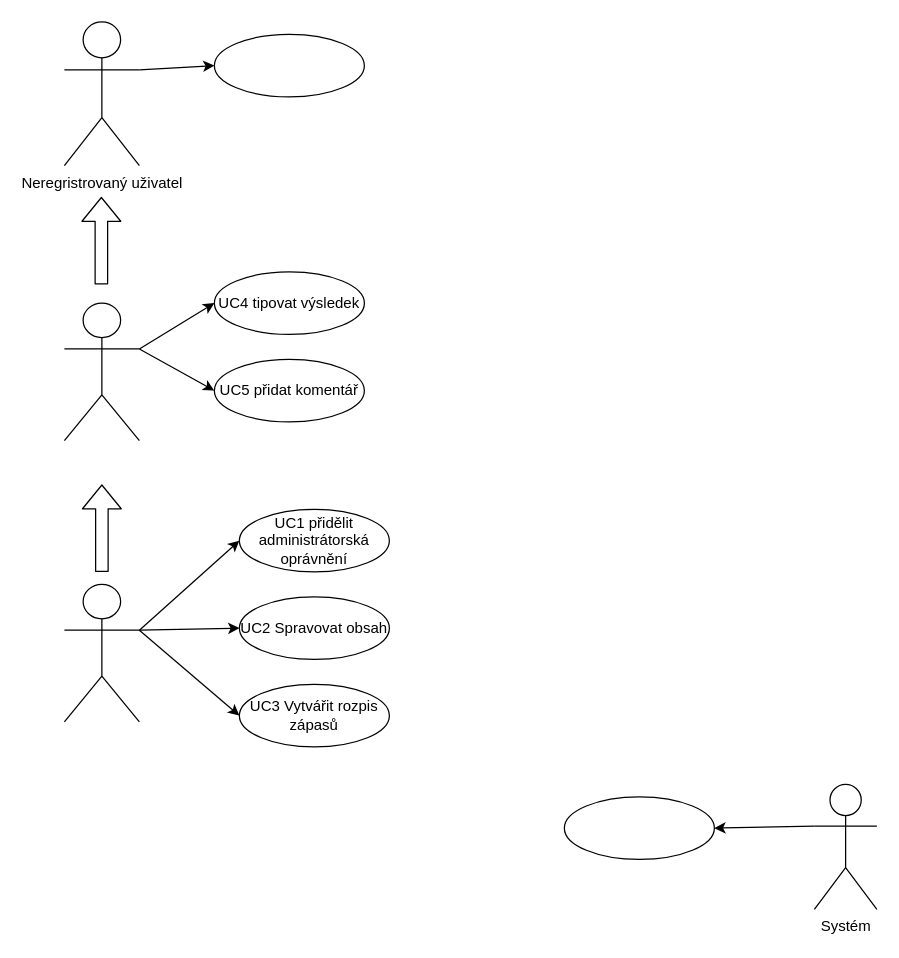
This 899x958 diagram has some shape labels left out. The centre of each missing label's shape, as x and y in pixels:
"Administrátor" belongs at (x=101, y=652).
"UC 7 Rozesílání rozpisu zípasů na email" belongs at (x=638, y=827).
"UC6 Registrovat se" belongs at (x=288, y=65).
"Člen" belongs at (x=101, y=371).
